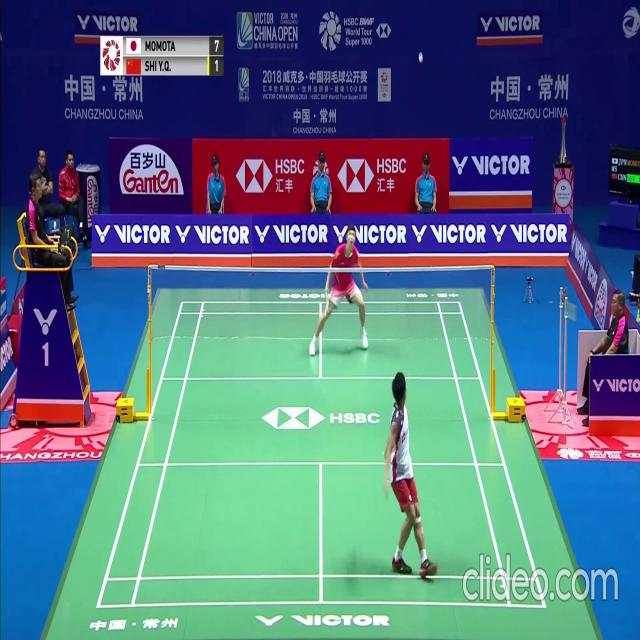Shuttlecock: (419, 51, 423, 58)
